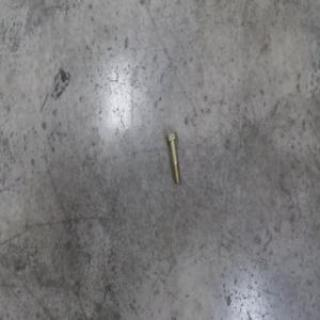Bolttrack_idkeyframe: (164, 130, 180, 184)
